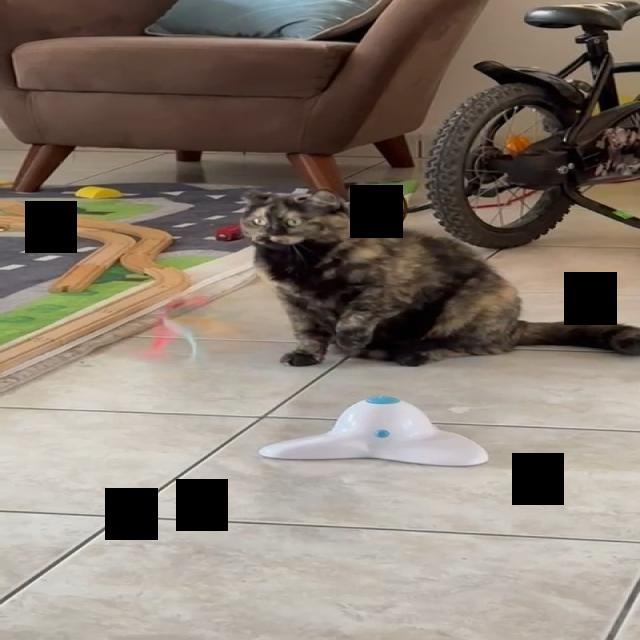authorized: (237, 187, 639, 368)
